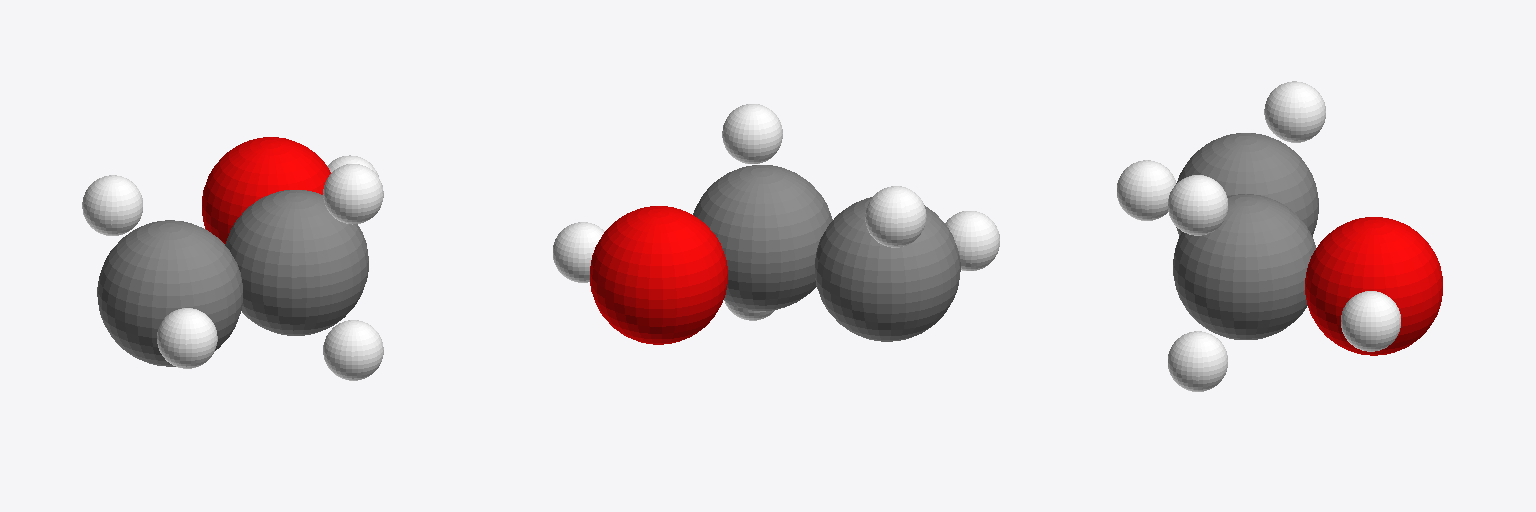
Rendered from ethanol.obj.
3 views of the same model, side by side, from view 1: azimuth 30°, elevation 25°; view 2: azimuth 150°, elevation 25°; view 3: azimuth 270°, elevation 25° (orthographic).
Parts seen in each view (by area): view 1: Carbon_ball, Hydrogen_ball, Oxygen_ball; view 2: Carbon_ball, Oxygen_ball, Hydrogen_ball; view 3: Carbon_ball, Hydrogen_ball, Oxygen_ball.
Part boxes in pixels (bbox=[...]): Carbon_ball: bbox=[97, 190, 368, 366]; Hydrogen_ball: bbox=[82, 155, 383, 380]; Oxygen_ball: bbox=[202, 137, 330, 243]; Carbon_ball: bbox=[693, 165, 960, 341]; Oxygen_ball: bbox=[590, 206, 727, 344]; Hydrogen_ball: bbox=[553, 104, 999, 320]; Carbon_ball: bbox=[1173, 133, 1318, 339]; Hydrogen_ball: bbox=[1117, 81, 1400, 391]; Oxygen_ball: bbox=[1305, 217, 1442, 355].
Bounding box in the file's own units: 4.02 × 2.45 × 3.44.